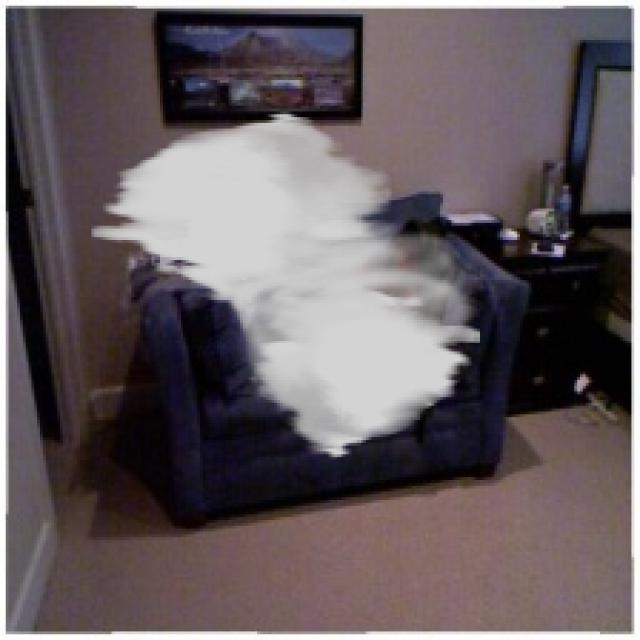smoke: (91, 111, 483, 460)
